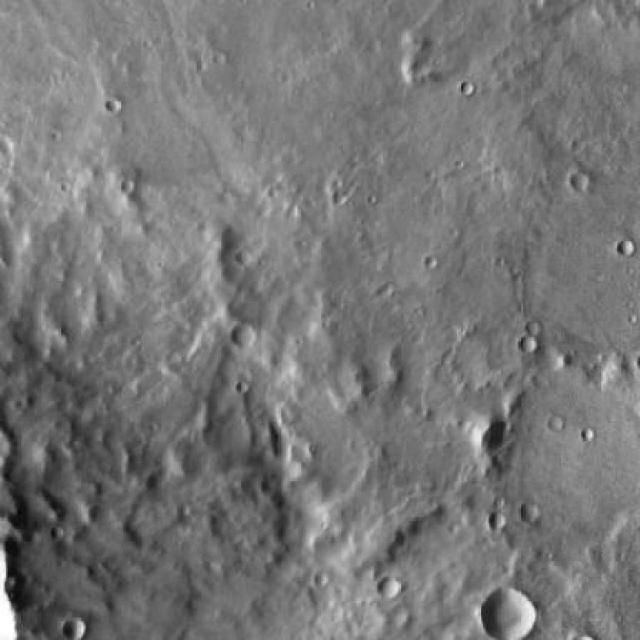crater: (492, 359, 630, 556), (481, 587, 536, 640), (380, 576, 402, 599), (232, 322, 255, 344), (63, 618, 85, 640), (520, 334, 538, 351), (237, 247, 254, 264), (568, 174, 584, 192)
